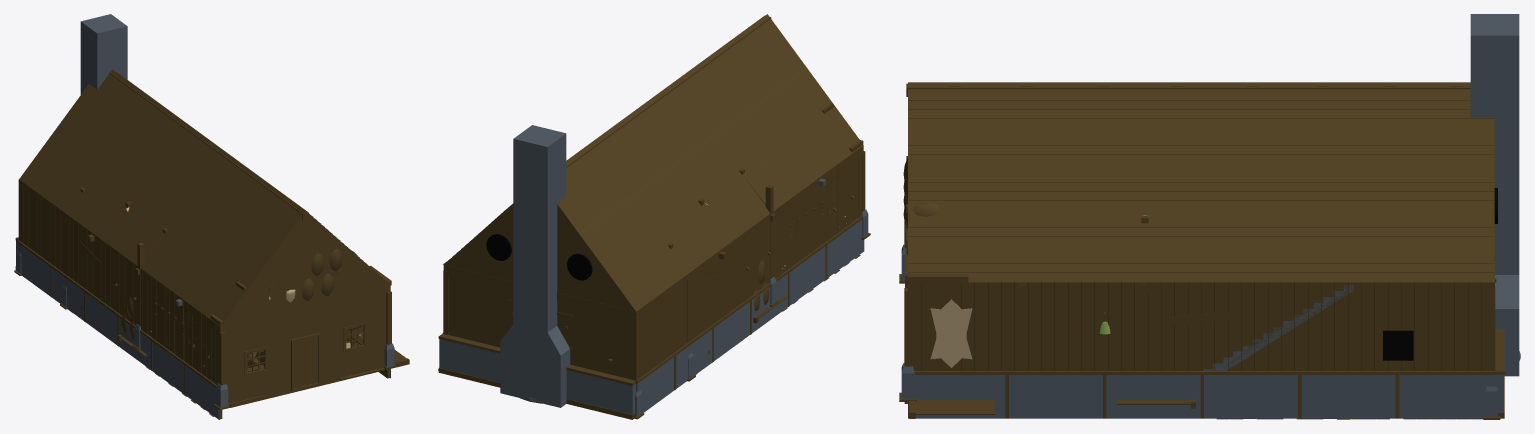
The model's file is Cabin_Blockout_08.fbx.
The picture shows the model from 3 angles, left to right: view 1: azimuth 30°, elevation 25°; view 2: azimuth 150°, elevation 25°; view 3: azimuth 270°, elevation 25°; orthographic projection. The views are drawn at different scales.
Parts seen in each view (by area): view 1: polySurface1962; view 2: polySurface1962; view 3: polySurface1962.
Part boxes in pixels (bbox=[...]): polySurface1962: bbox=[14, 14, 409, 419]; polySurface1962: bbox=[438, 14, 870, 419]; polySurface1962: bbox=[899, 14, 1520, 419].
Bounding box in the file's own units: 982 × 1111 × 1863.
